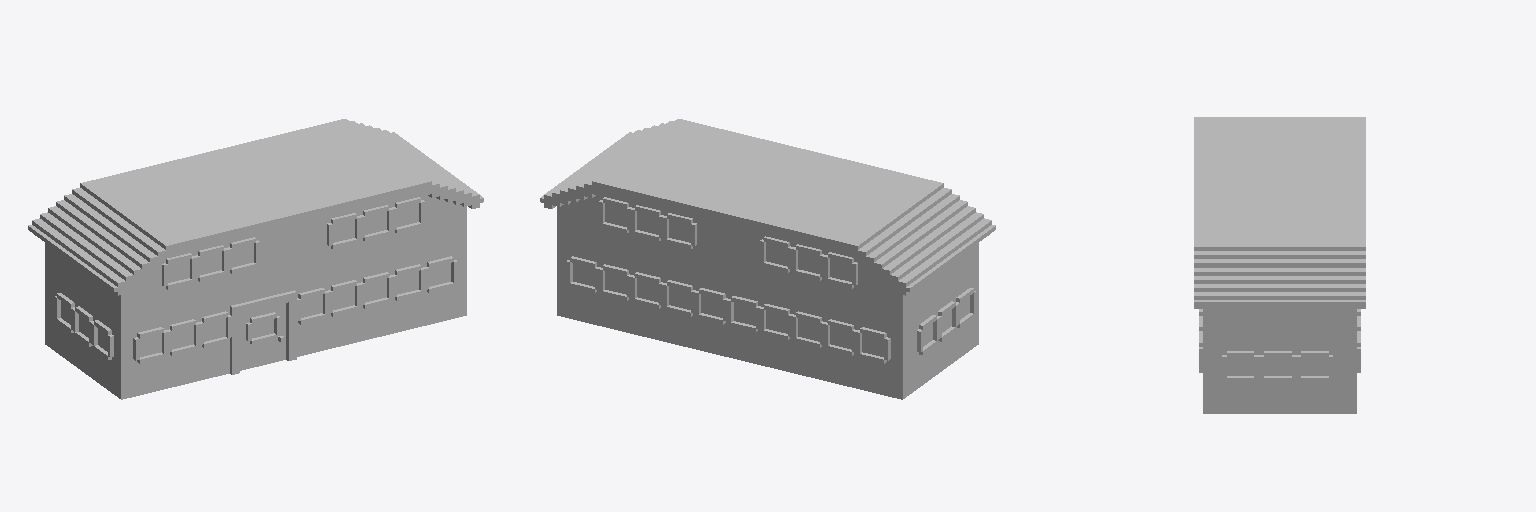
Rendered from professors lab.obj.
3 renders of one model, left to right at view 1: azimuth 30°, elevation 25°; view 2: azimuth 150°, elevation 25°; view 3: azimuth 270°, elevation 25°, orthographic.
Parts seen in each view (by area): view 1: object 1; view 2: object 1; view 3: object 1.
Boxes of the visible parts, x1=… form: object 1: x1=28, y1=119, x2=483, y2=399; object 1: x1=540, y1=119, x2=995, y2=399; object 1: x1=1194, y1=117, x2=1365, y2=413.
Size of the model in its own units: 9.2 by 3.5 by 3.7.